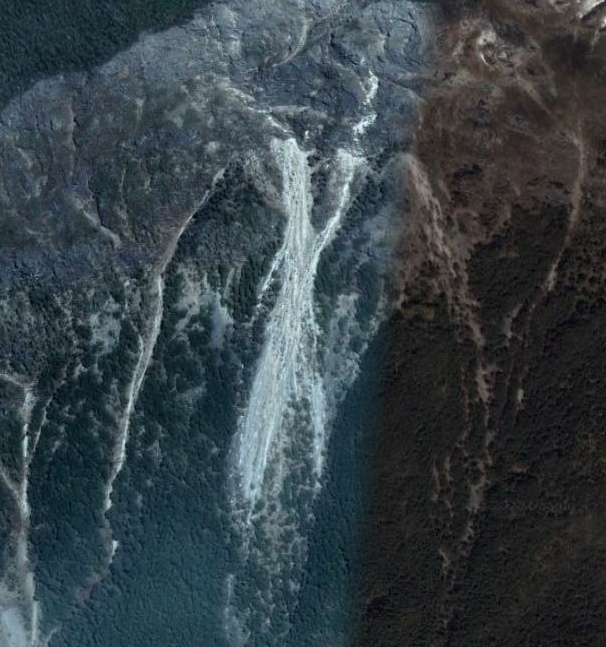slope: (229, 131, 373, 522), (395, 145, 461, 280)
